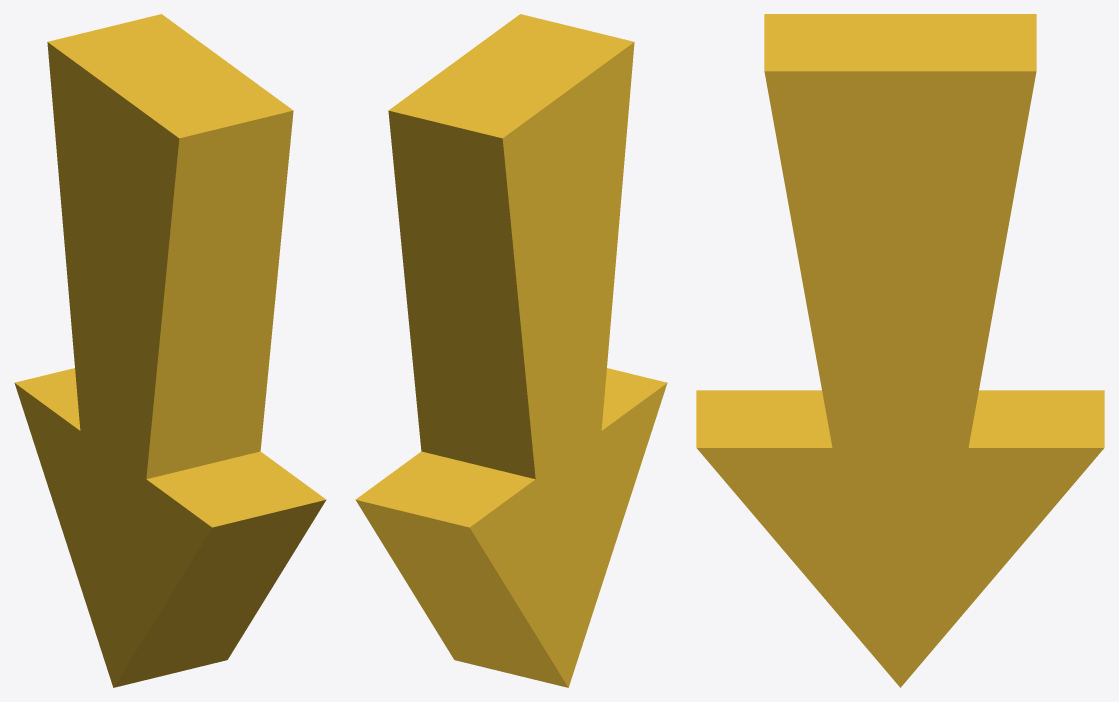
File: fleche_jaune.glb
3 views of the same model, side by side, from view 1: azimuth 30°, elevation 25°; view 2: azimuth 150°, elevation 25°; view 3: azimuth 270°, elevation 25° (orthographic). The views are drawn at different scales.
Visible parts, largest first — view 1: Cube.002; view 2: Cube.002; view 3: Cube.002.
Boxes of the visible parts, bbox=[...] form: Cube.002: bbox=[14, 14, 326, 687]; Cube.002: bbox=[355, 14, 667, 687]; Cube.002: bbox=[696, 14, 1104, 687].
Size of the model in its own units: 1.72 by 8.62 by 5.17.
1 material, 1 textured.
